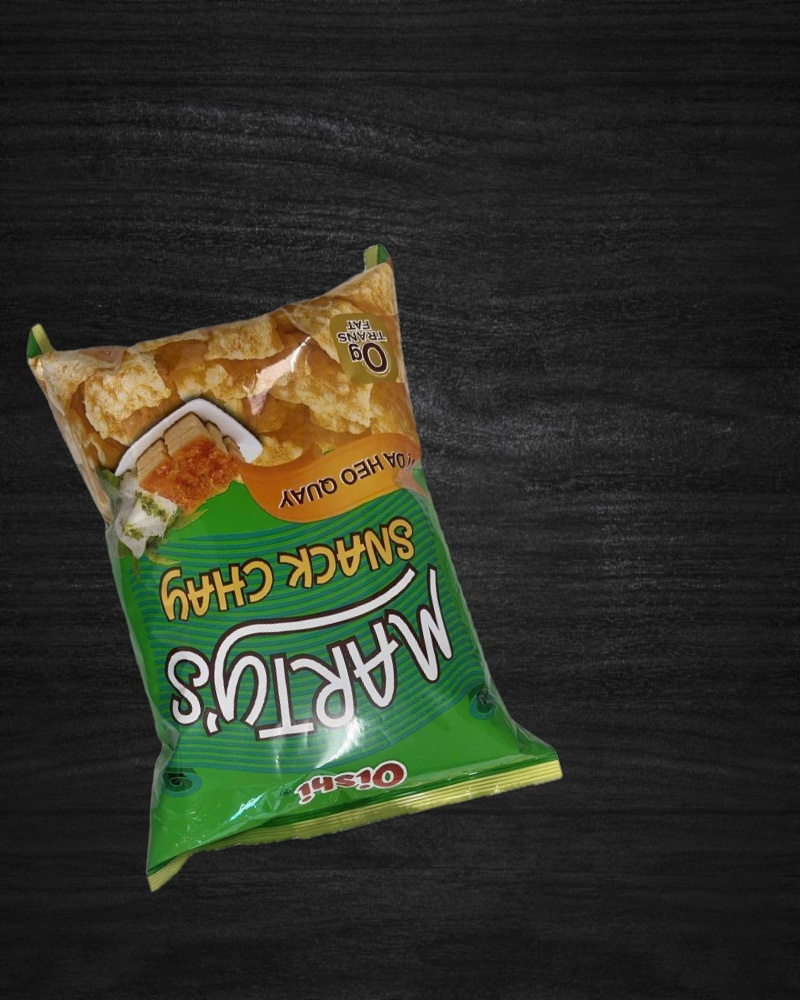Snack chay: (22, 224, 565, 888)
